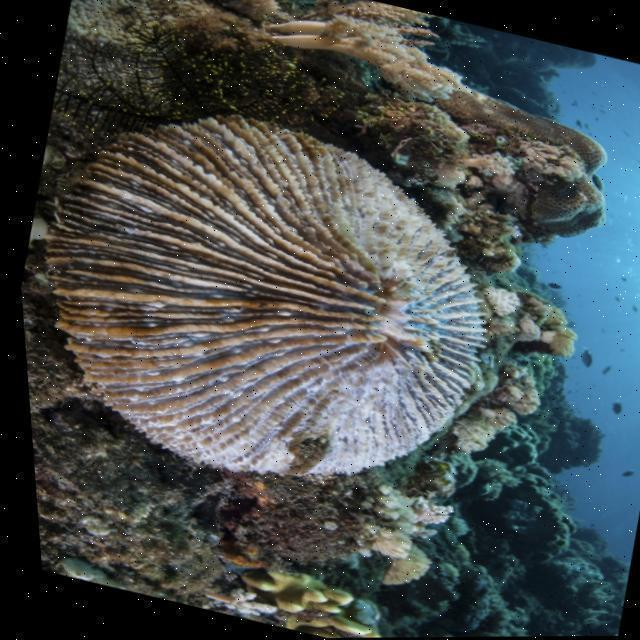Healthy Coral: (4, 63, 542, 548)
